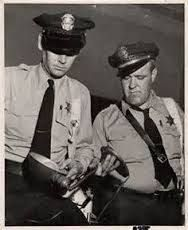uniform: (3, 62, 88, 215), (97, 93, 181, 216)
